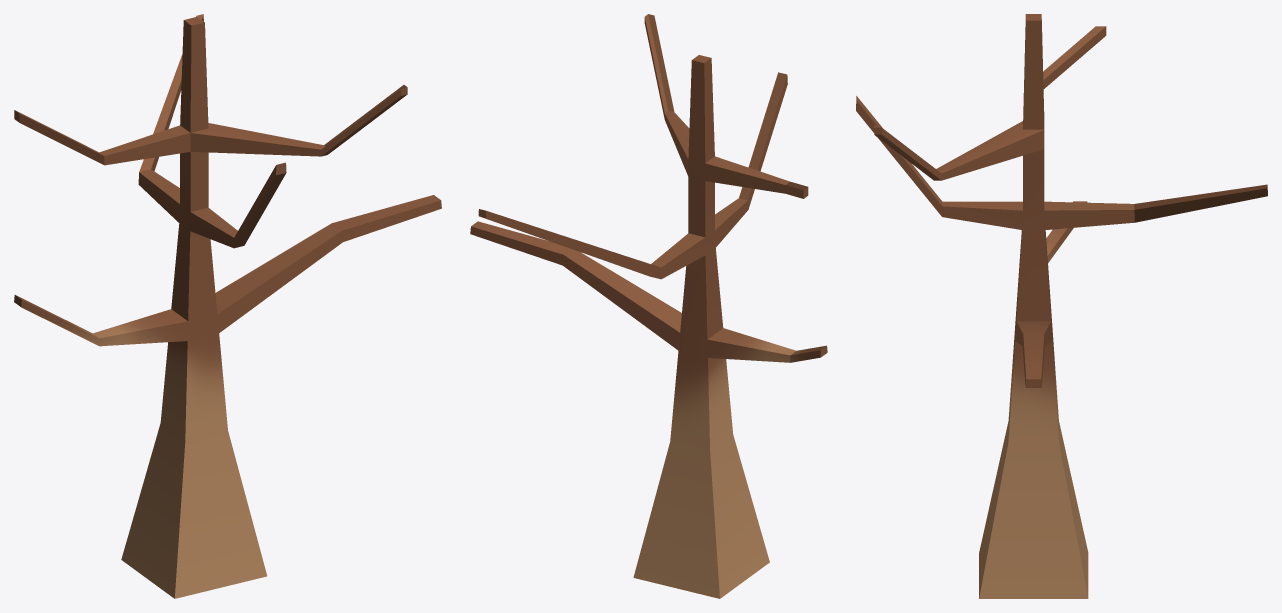
File: tree.glb
3 views of the same model, side by side, from view 1: azimuth 30°, elevation 25°; view 2: azimuth 150°, elevation 25°; view 3: azimuth 270°, elevation 25° (orthographic). The views are drawn at different scales.
Visible parts, largest first — view 1: tree; view 2: tree; view 3: tree.
Part boxes in pixels (x1,y1,x2,y2): tree: (14,14,441,598); tree: (470,14,827,598); tree: (856,14,1267,598).
Size of the model in its own units: 1.96 by 2.57 by 1.72.
Materials: 1 (1 with a texture image).
